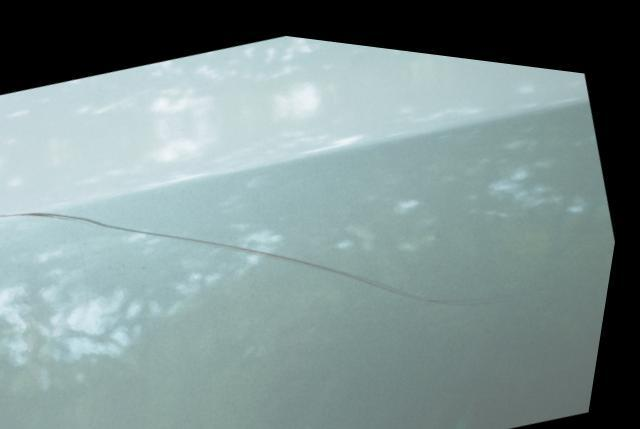scratch: (0, 205, 488, 298)
